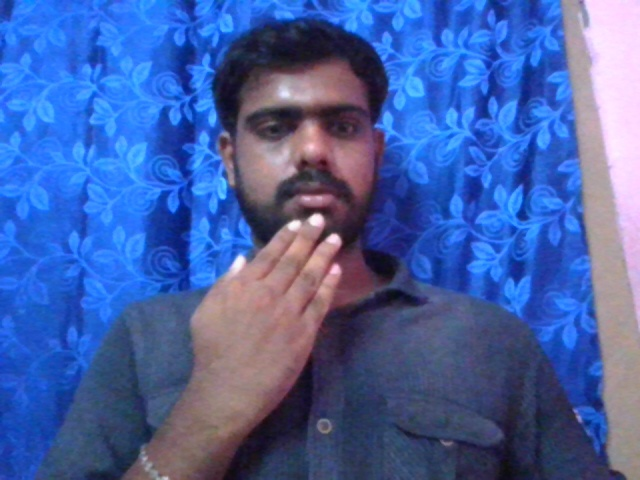Thanks: (187, 211, 343, 429)
